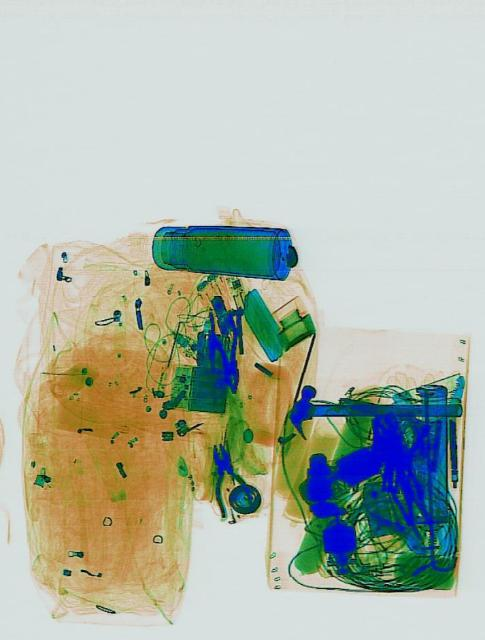Pliers: (199, 436, 252, 520), (206, 319, 247, 396)
